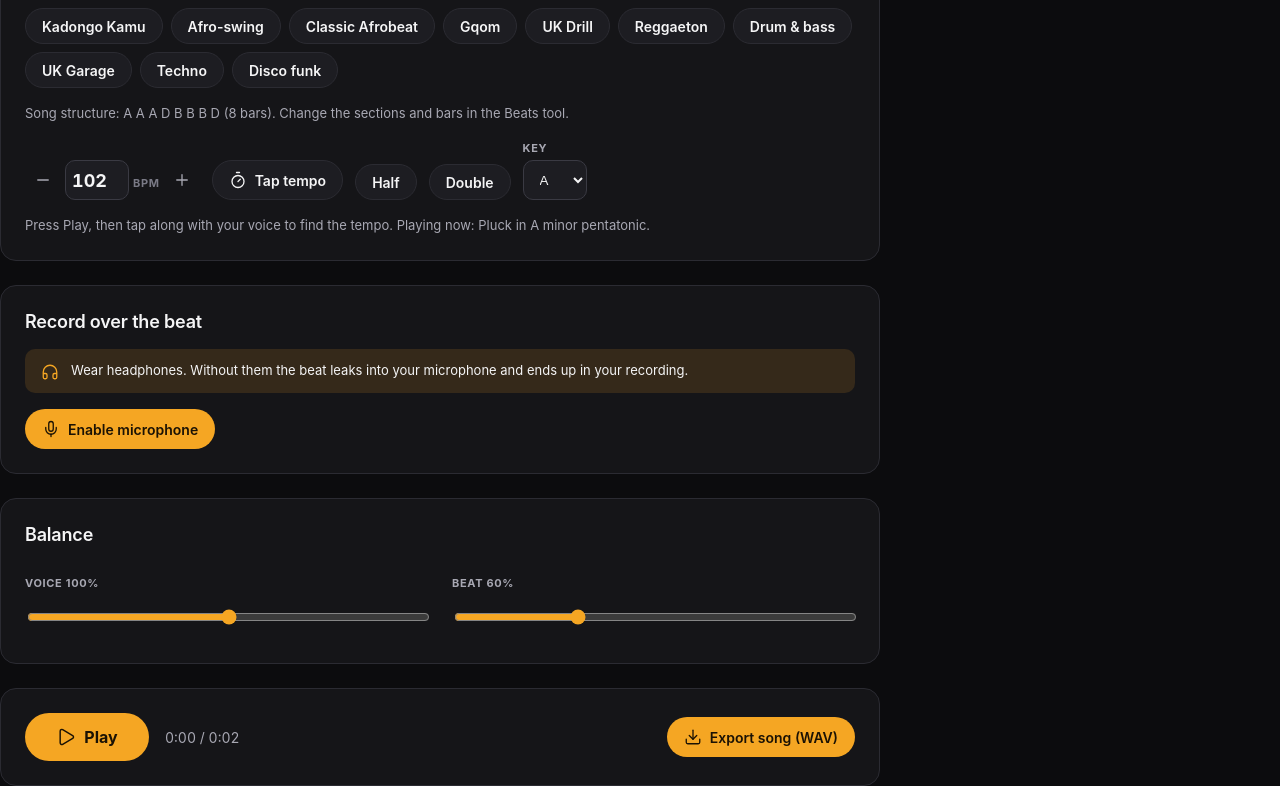
Test: Record over the beat: recording › the beat is locked while recording so the take always matches it
(page scrolled)
Expected: the button "Play" is enabled, [25,713,149,761]
Click the button "Enable microphone".
click(120, 429)  # box [25,409,215,449]
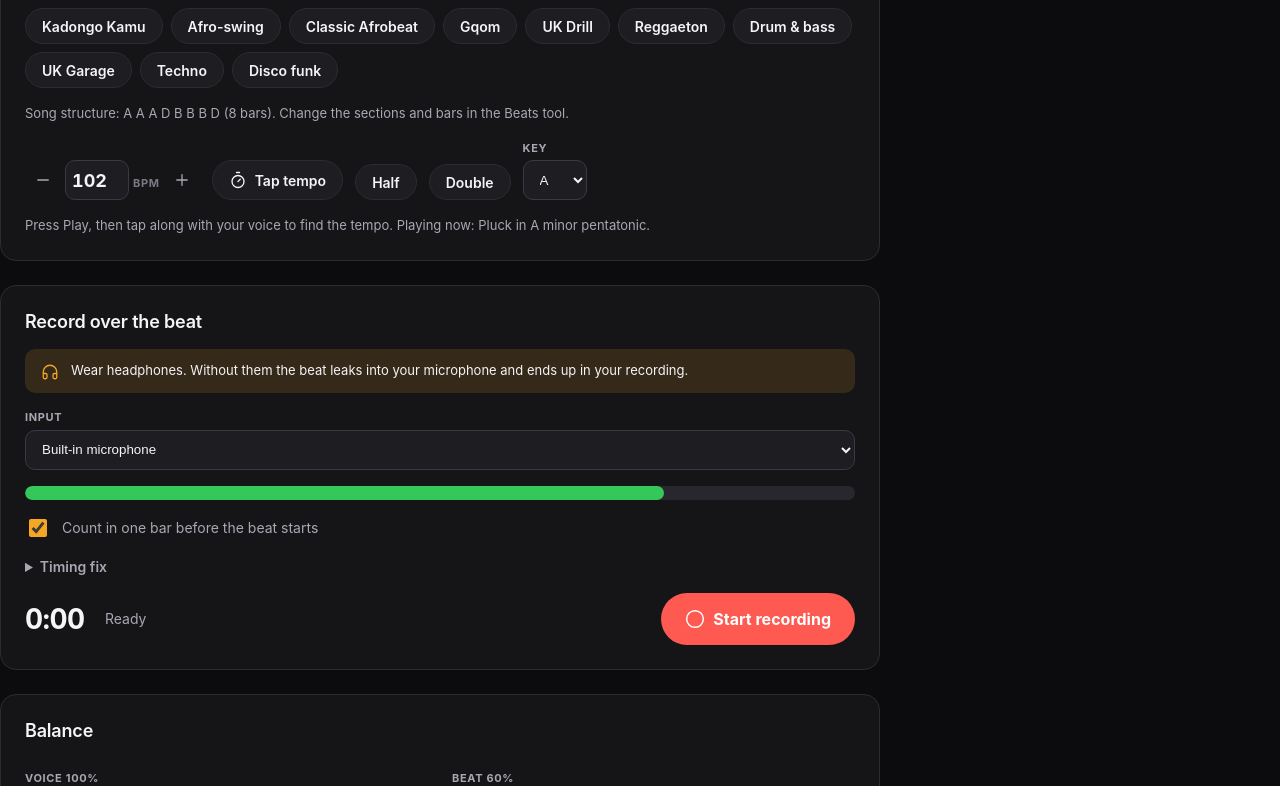
Expected: the dropdown labelled "Input" is shown, [25,430,855,470]
Click the button "Start recording".
click(758, 619)  # box [661,593,855,645]
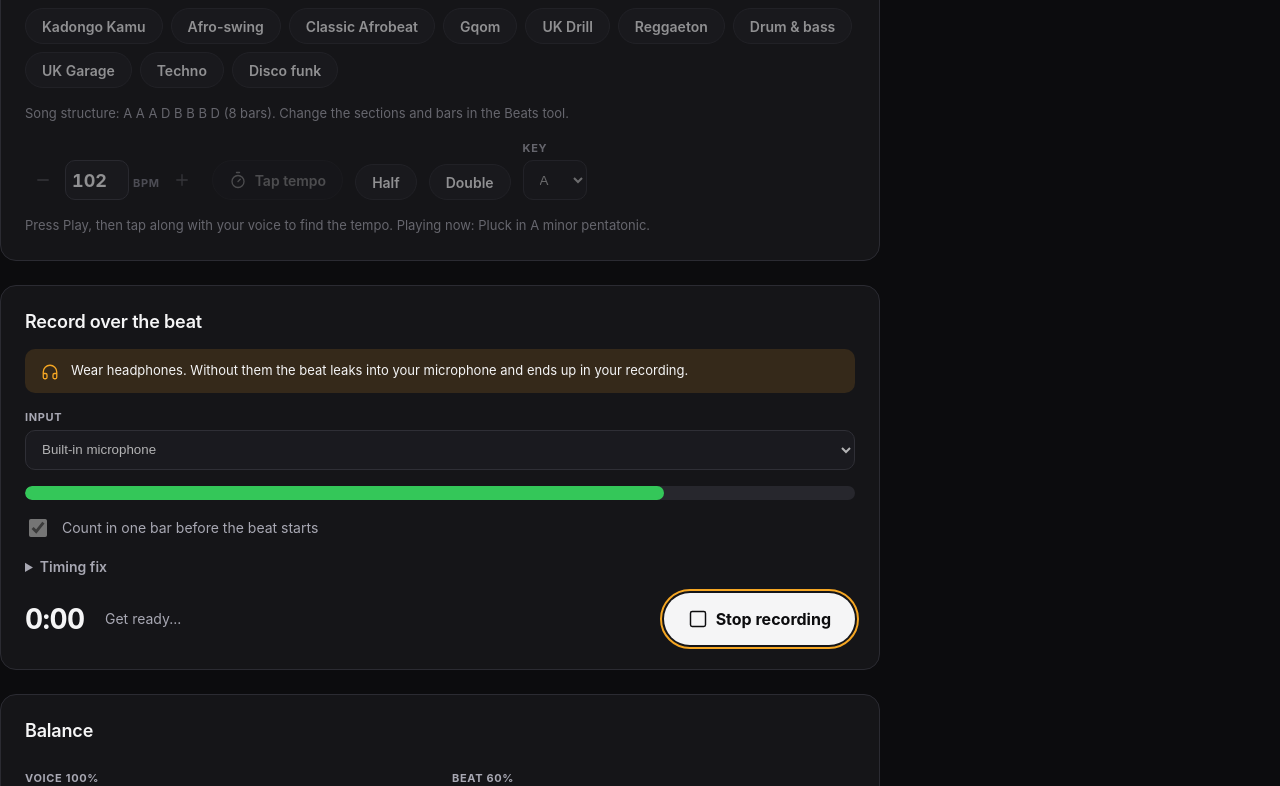
Expected: the button named "Faster" is disabled, [164,162,200,198]
Expected: the text "Get ready..." is shown, [105,610,181,627]
Expected: the dropdown labelled "Input" is disabled, [25,430,855,470]
Click the button "Stop recording".
click(759, 619)  # box [664,593,855,645]
(page scrolled)
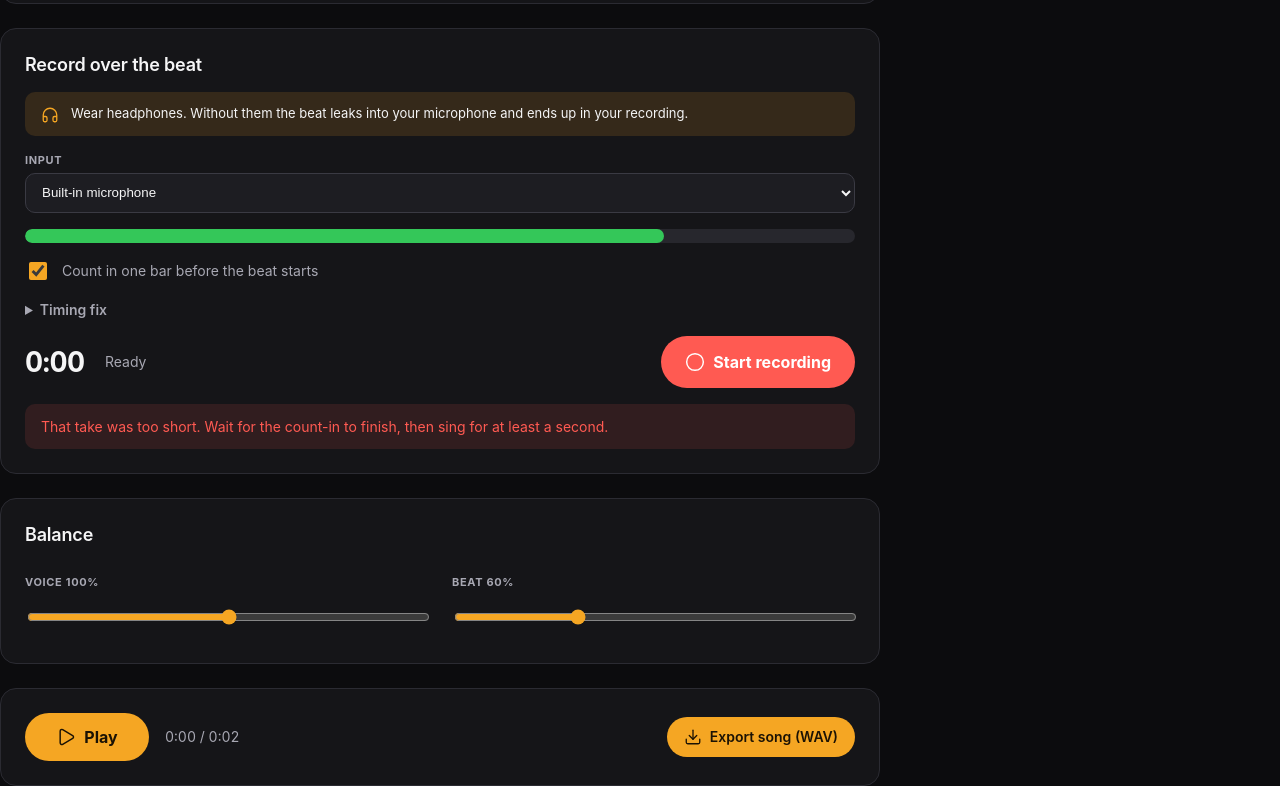
Expected: the message is shown, [25,404,855,449]
Expected: the button "Play" is enabled, [25,713,149,761]
